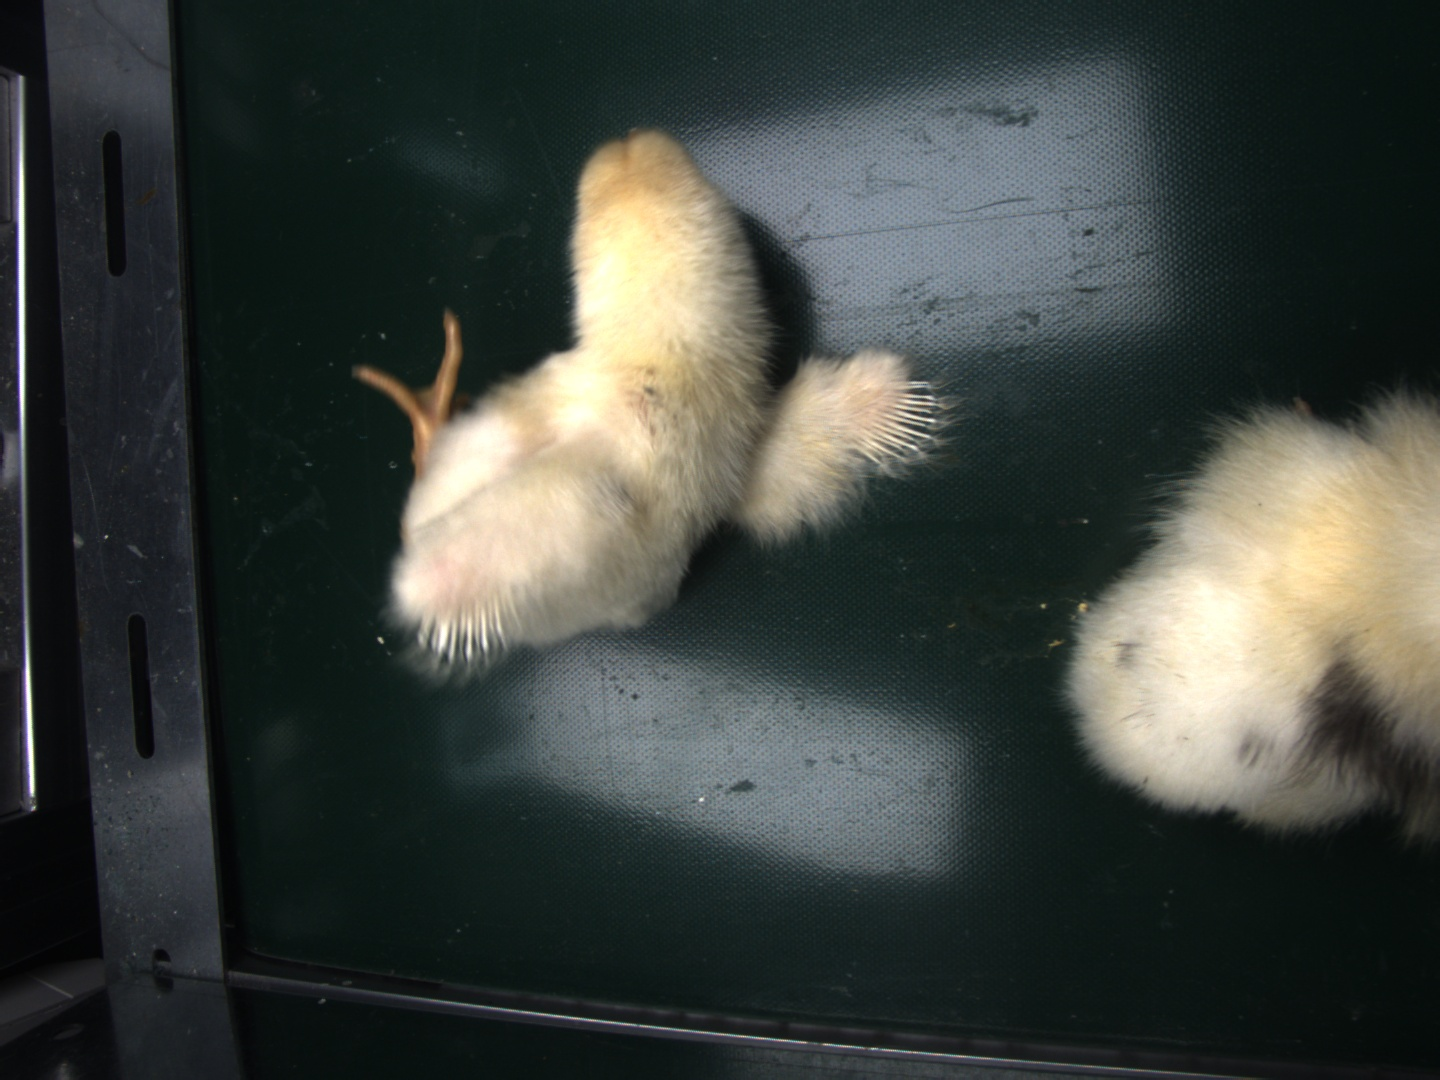male: (421, 597, 508, 661), (863, 387, 937, 462)
